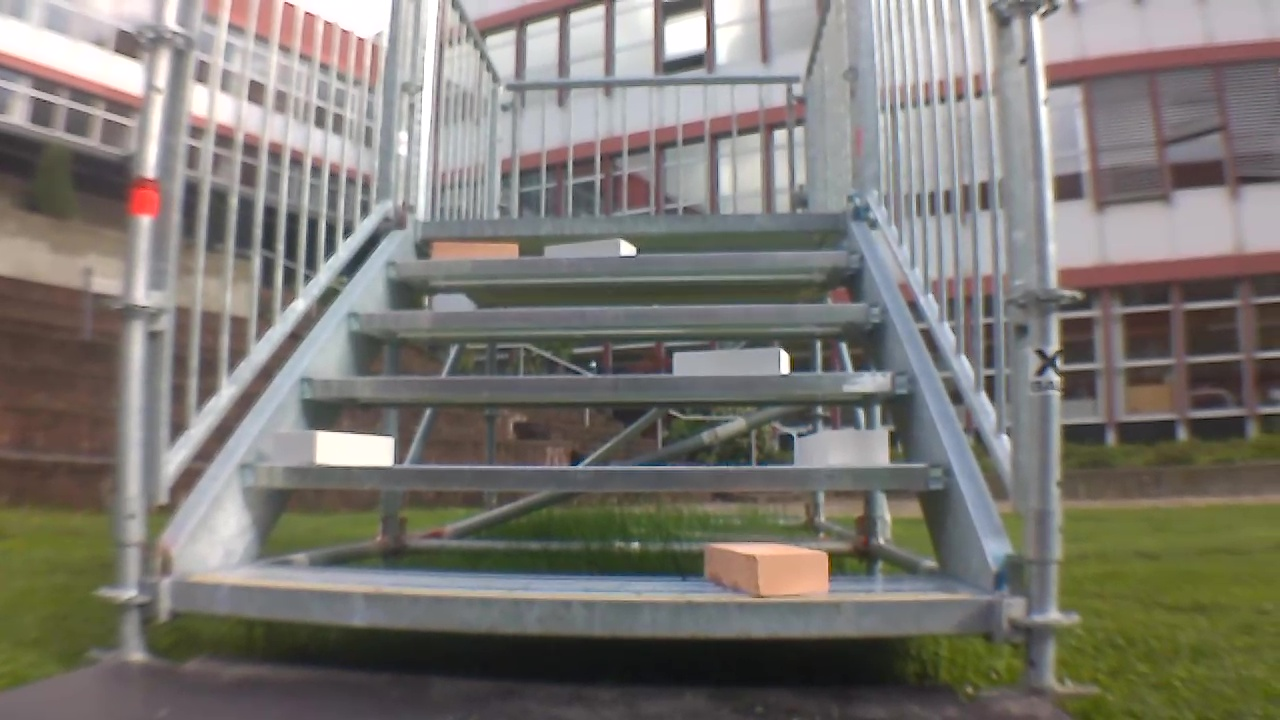brick: (703, 543, 828, 594), (273, 432, 393, 464), (673, 347, 789, 373), (797, 429, 887, 462), (545, 239, 636, 256), (432, 242, 516, 258)
edge: (169, 581, 996, 635), (243, 465, 946, 488), (302, 373, 911, 397), (350, 304, 885, 326), (390, 251, 863, 275), (420, 213, 849, 234)
stairs: (101, 1, 1078, 693)
steps: (164, 206, 1003, 647)
